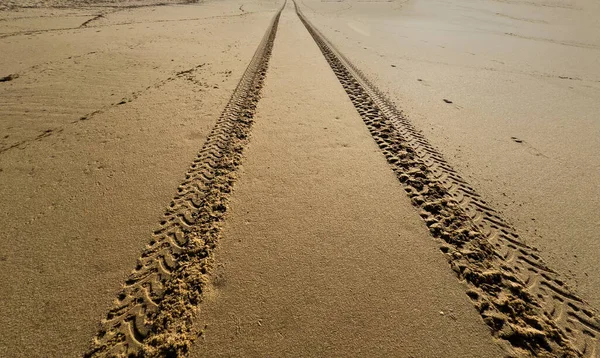vehicle_track: (295, 3, 599, 356), (84, 7, 282, 356)
